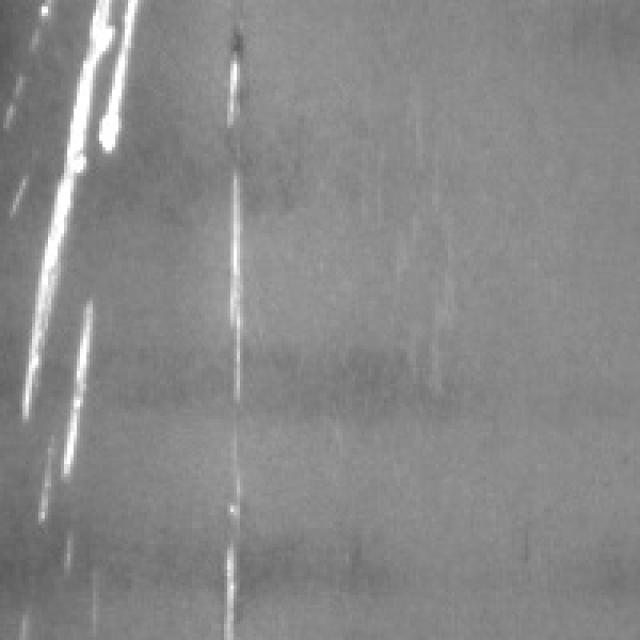scratches: (13, 0, 134, 467), (202, 39, 256, 634)
